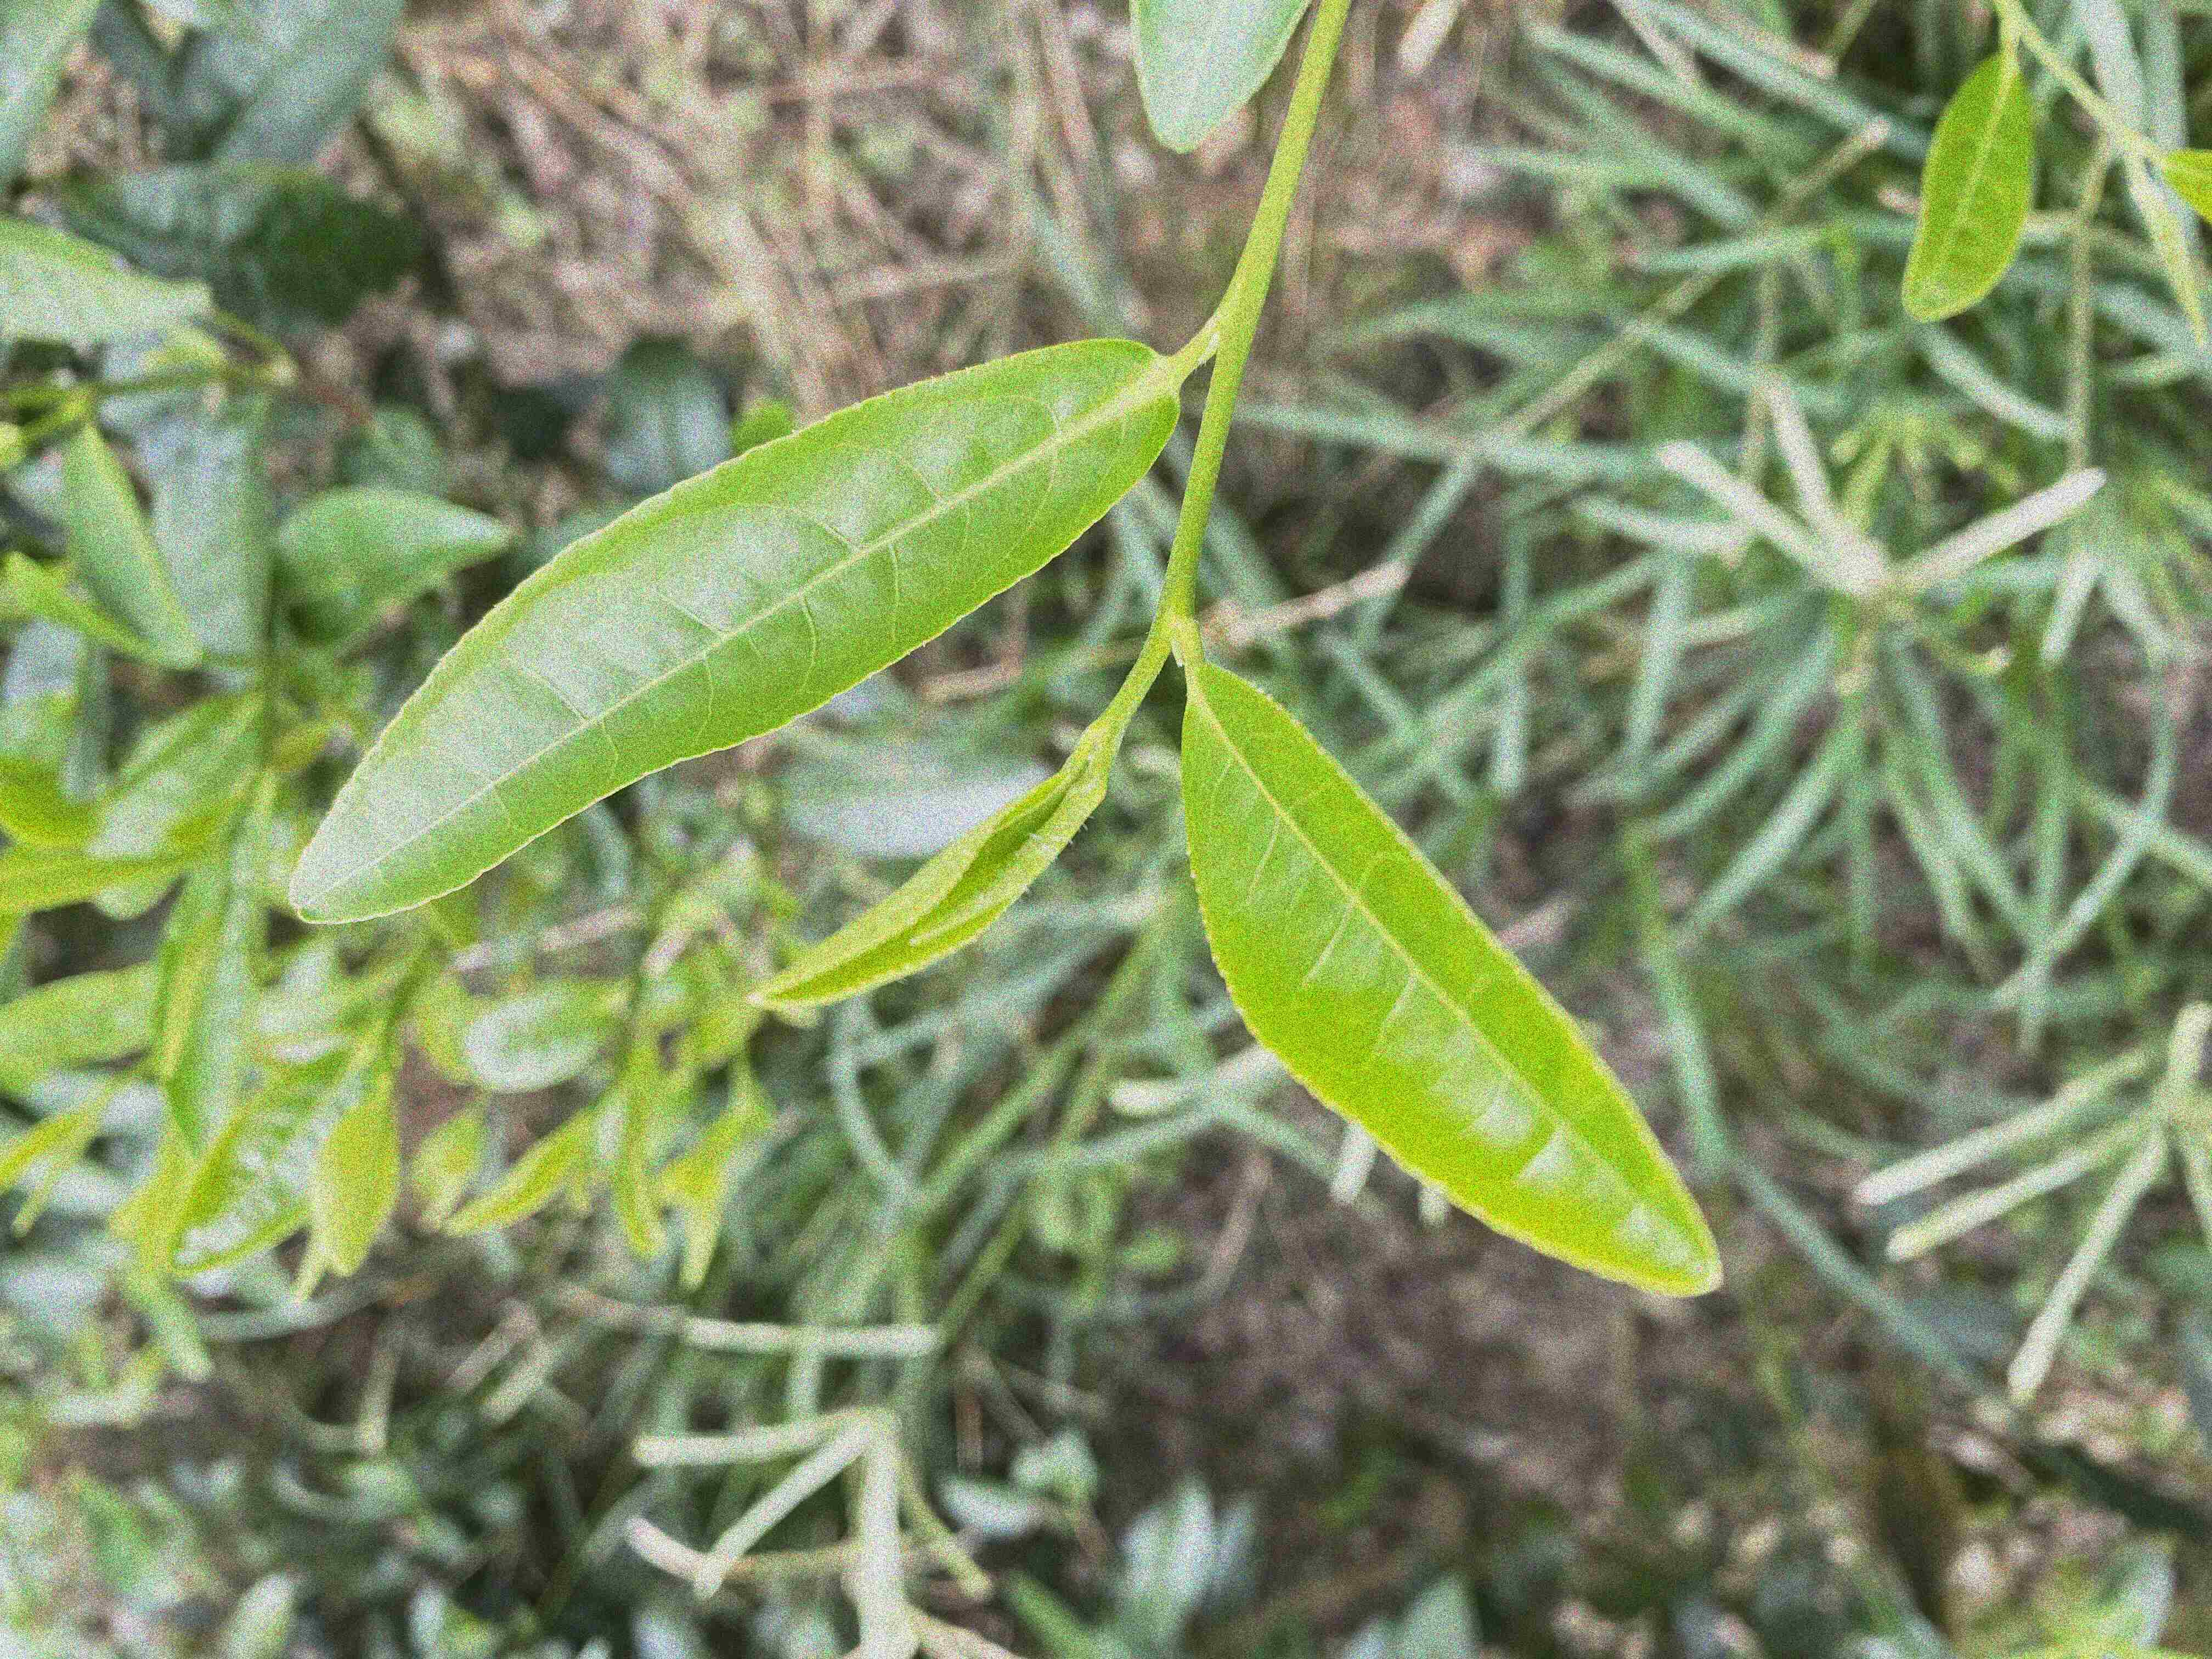healthy: (289, 338, 1179, 925), (1181, 662, 1721, 1295), (1902, 58, 2029, 322)
